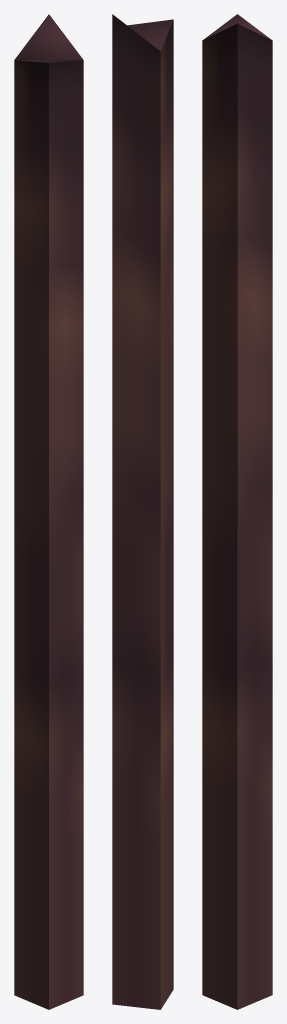
File: Spear_No_Blade.fbx
3 views of the same model, side by side, from view 1: azimuth 90°, elevation 25°; view 2: azimuth 210°, elevation 25°; view 3: azimuth 270°, elevation 25° (orthographic). The views are drawn at different scales.
Parts seen in each view (by area): view 1: Spear_No_Blade; view 2: Spear_No_Blade; view 3: Spear_No_Blade.
Boxes of the visible parts, <box> form: Spear_No_Blade: <box>14,14,83,1009</box>; Spear_No_Blade: <box>112,14,173,1009</box>; Spear_No_Blade: <box>202,14,272,1009</box>.
Bounding box in the file's own units: 12.5 × 193 × 12.5.
1 material, 1 textured.
